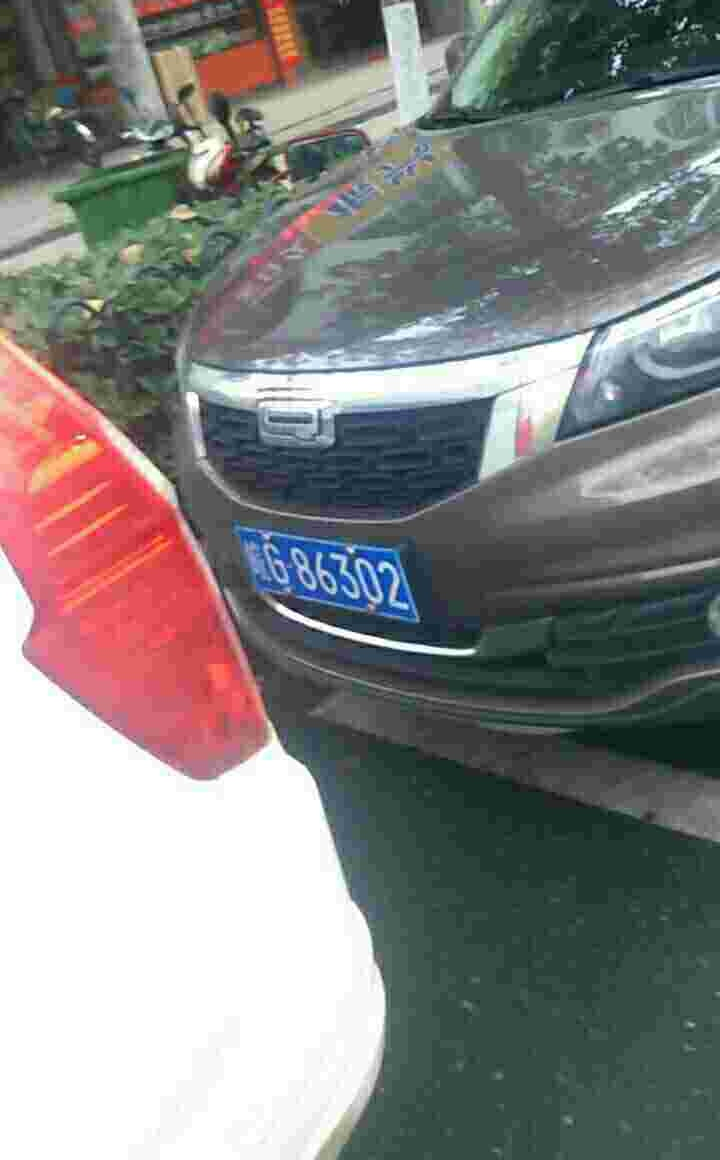plate: (228, 519, 422, 626)
